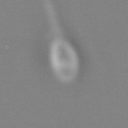normal: (33, 1, 73, 37)
